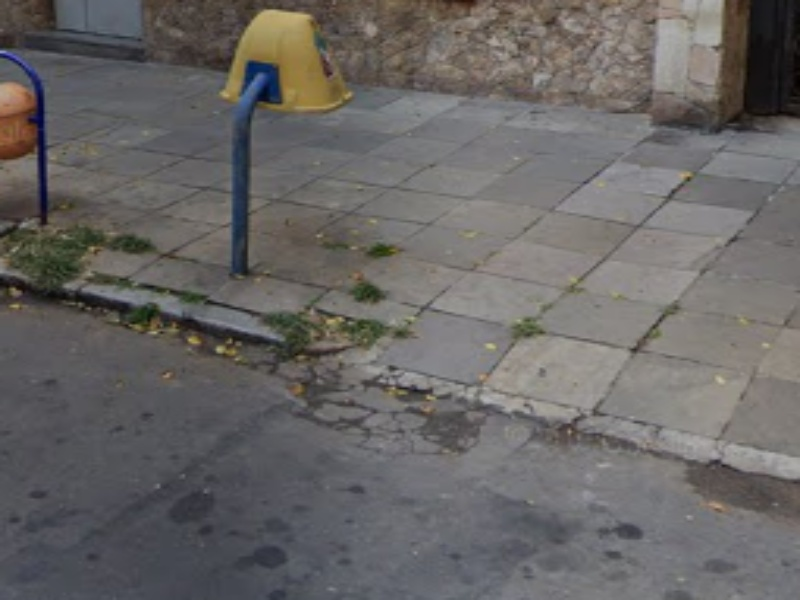g90: (325, 298, 800, 518)
